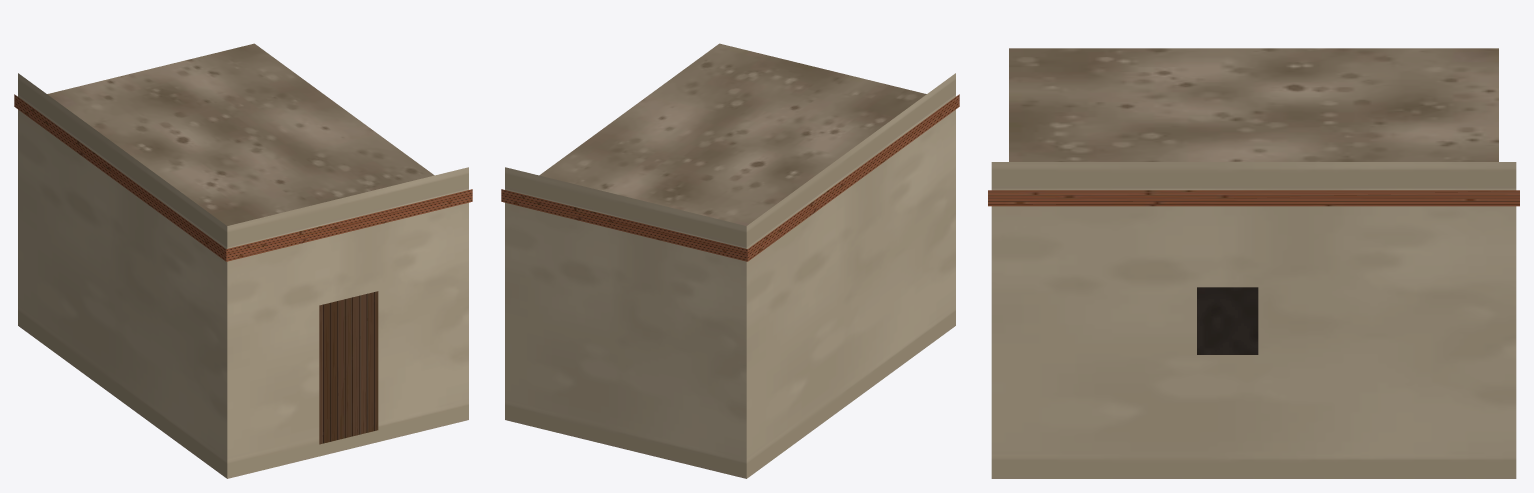
File: ae_sand_stone_medium_block_lod2.glb
The picture shows the model from 3 angles, left to right: view 1: azimuth 30°, elevation 25°; view 2: azimuth 150°, elevation 25°; view 3: azimuth 270°, elevation 25°; orthographic projection. The views are drawn at different scales.
Visible parts, largest first — view 1: ae_sand_stone_medium_block_lod2; view 2: ae_sand_stone_medium_block_lod2; view 3: ae_sand_stone_medium_block_lod2.
Part boxes in pixels (x1,y1,x2,y2): ae_sand_stone_medium_block_lod2: (14,43,472,478); ae_sand_stone_medium_block_lod2: (501,43,959,478); ae_sand_stone_medium_block_lod2: (988,48,1519,478).
Bounding box in the file's own units: 4.08 × 4 × 6.08.
Materials: 1 (1 with a texture image).
